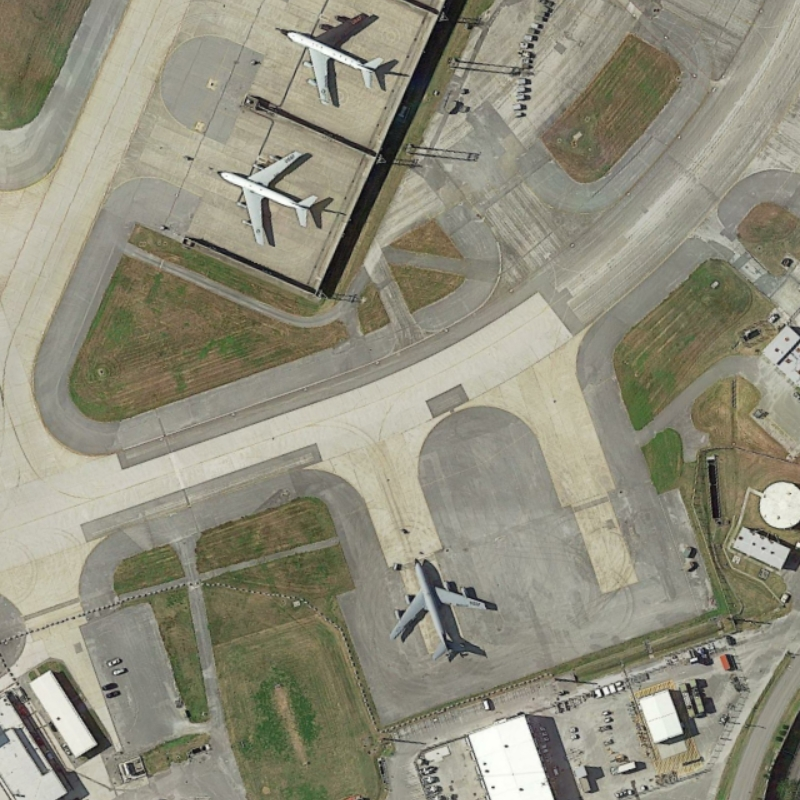A11: (271, 7, 394, 109), (211, 148, 327, 246)
A14: (384, 549, 496, 666)
